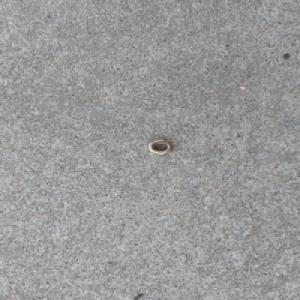Nut: (147, 139, 173, 155)
